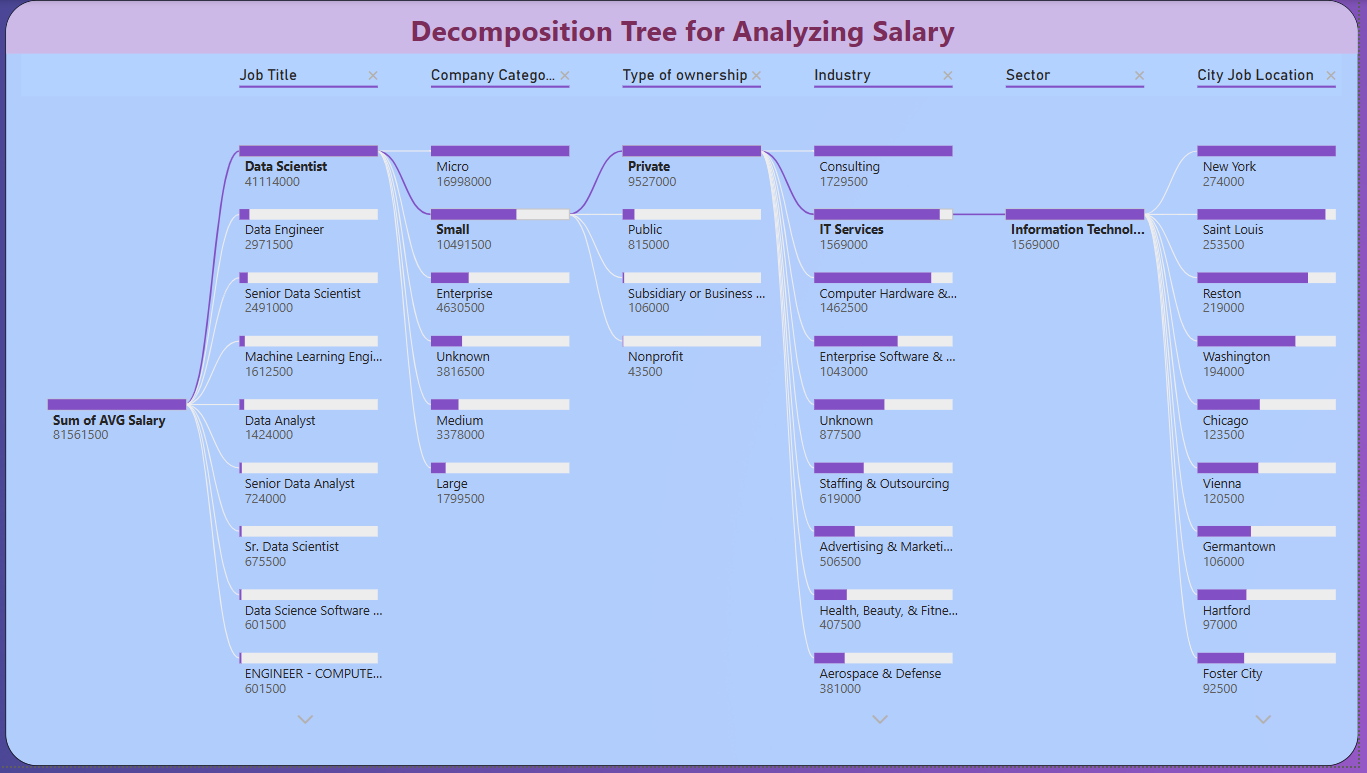

The dashboard page shown, as its layout file describes it:
{"tool":"powerbi","page":{"name":"Tree","canvas":[1280,720],"ordinal":1},"visuals":[{"type":"decompositionTreeVisual","title":"Decomposition Tree for Analyzing Salary","fields":{"ExplainBy":["Uncleaned_DS_jobs1.Job Title","Uncleaned_DS_jobs1.Company Category","Uncleaned_DS_jobs1.Type of ownership","Uncleaned_DS_jobs1.Industry","Uncleaned_DS_jobs1.Sector","Uncleaned_DS_jobs1.City Job Location"],"Analyze":["Sum(Uncleaned_DS_jobs1.AVG Salary)"]},"box":[9.3,0,1270.5,719.3],"z":0}]}

Visuals, with their boxes in screenshot pixels (x1, y1, x2, y2), scaled from the page's 1280x720 canvas onto the 1367x773 screenshot:
"Decomposition Tree for Analyzing Salary" decompositionTreeVisual: 10 0 1366 772
